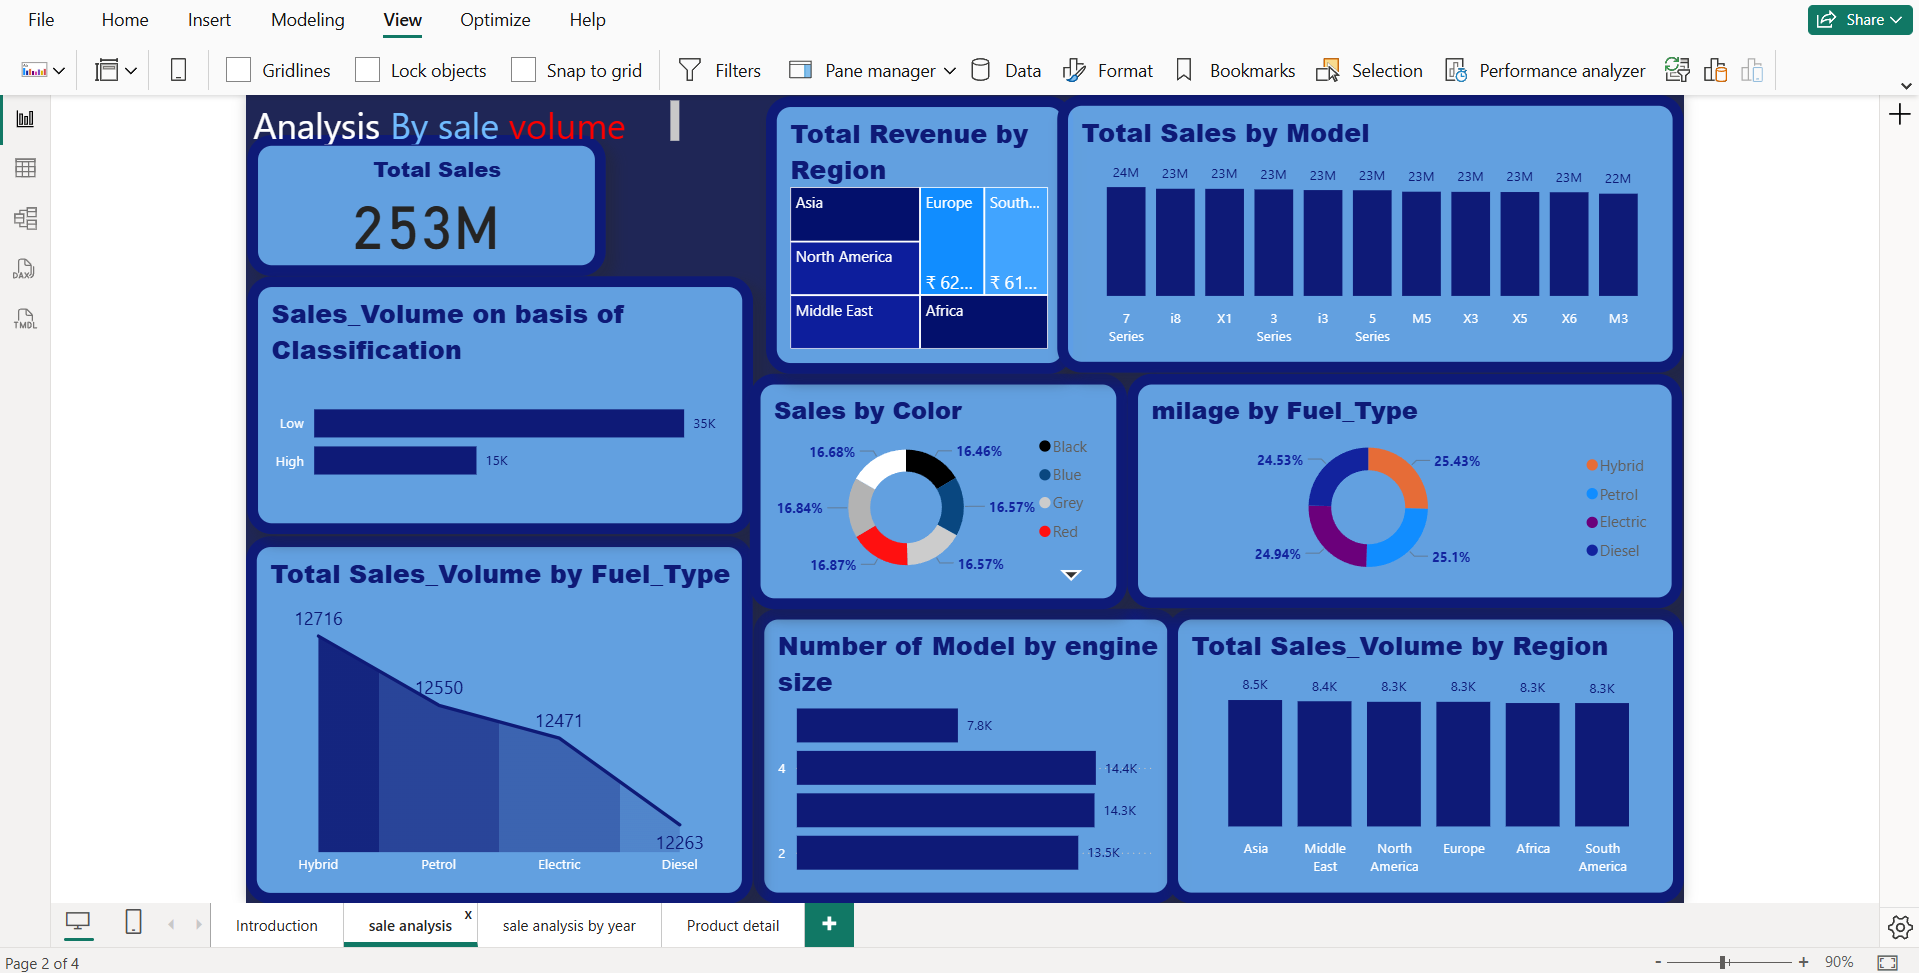

What the dashboard file says about the page in this screenshot:
{"tool":"powerbi","page":{"name":"sale analysis","canvas":[1280,720],"ordinal":1},"visuals":[{"type":"clusteredBarChart","title":"Number of Model by engine size","fields":{"Category":["BMW_Car_Sales_Classification.Engine_Size_L"],"Y":["CountNonNull(BMW_Car_Sales_Classification.Model)"]},"box":[451.6,457.4,378,262.6],"z":0},{"type":"areaChart","title":"Total  Sales_Volume by Fuel_Type","fields":{"Category":["BMW_Car_Sales_Classification.Fuel_Type"],"Y":["CountNonNull(BMW_Car_Sales_Classification.Sales_Volume)"]},"box":[0,392.4,451.6,327.5],"z":1000},{"type":"columnChart","title":"Total Sales_Volume by Region","fields":{"Category":["BMW_Car_Sales_Classification.Region"],"Y":["CountNonNull(BMW_Car_Sales_Classification.Sales_Volume)"]},"box":[820.7,457.5,459.8,262.1],"z":2000},{"type":"card","title":"Total Sales","fields":{"Values":["Sum(BMW_Car_Sales_Classification.Sales_Volume)"]},"box":[1.4,36.1,318.9,125.5],"z":3000},{"type":"barChart","title":" Sales_Volume  on basis of Classification","fields":{"Category":["BMW_Car_Sales_Classification.Sales_Classification"],"Y":["CountNonNull(BMW_Car_Sales_Classification.Sales_Volume)"]},"box":[1.1,160.9,450.6,229.9],"z":4000},{"type":"textbox","box":[1.4,0,389.5,49.1],"z":5000},{"type":"donutChart","title":"Sales by Color","fields":{"Category":["BMW_Car_Sales_Classification.Color"],"Y":["Sum(BMW_Car_Sales_Classification.Sales_Volume)"]},"box":[448.7,248.2,336.2,209.2],"z":6000},{"type":"treemap","title":"Total Revenue by Region","fields":{"Group":["BMW_Car_Sales_Classification.Region"],"Values":["Sum(BMW_Car_Sales_Classification.Price)"]},"box":[463.2,1.1,273.6,247.1],"z":7000},{"type":"clusteredColumnChart","title":"Total Sales by Model","fields":{"Category":["BMW_Car_Sales_Classification.Model"],"Y":["Sum(BMW_Car_Sales_Classification.Sales_Volume)"]},"box":[723,0,557.5,247.1],"z":8000},{"type":"pieChart","title":"milage  by Fuel_Type","fields":{"Y":["CountNonNull(BMW_Car_Sales_Classification.Mileage_KM)"],"Category":["BMW_Car_Sales_Classification.Fuel_Type"]},"box":[785,248,494,209],"z":9000}]}

Visuals, with their boxes on the page's 1280x720 design canvas (x1, y1, x2, y2). These are canvas units, not pixel positions in the 1919x973 screenshot, which may show the page scaled, cropped or inside an application window:
"Number of Model by engine size" clusteredBarChart: Rect(452, 457, 830, 720)
"Total  Sales_Volume by Fuel_Type" areaChart: Rect(0, 392, 452, 720)
"Total Sales_Volume by Region" columnChart: Rect(821, 458, 1280, 720)
"Total Sales" card: Rect(1, 36, 320, 162)
" Sales_Volume  on basis of Classification" barChart: Rect(1, 161, 452, 391)
textbox: Rect(1, 0, 391, 49)
"Sales by Color" donutChart: Rect(449, 248, 785, 457)
"Total Revenue by Region" treemap: Rect(463, 1, 737, 248)
"Total Sales by Model" clusteredColumnChart: Rect(723, 0, 1280, 247)
"milage  by Fuel_Type" pieChart: Rect(785, 248, 1279, 457)
